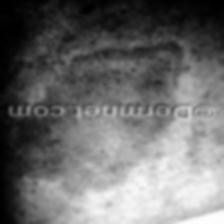Toxin: (45, 30, 184, 104)
